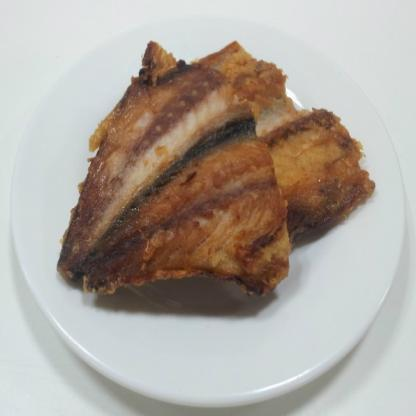Peixe: (54, 19, 356, 297)
